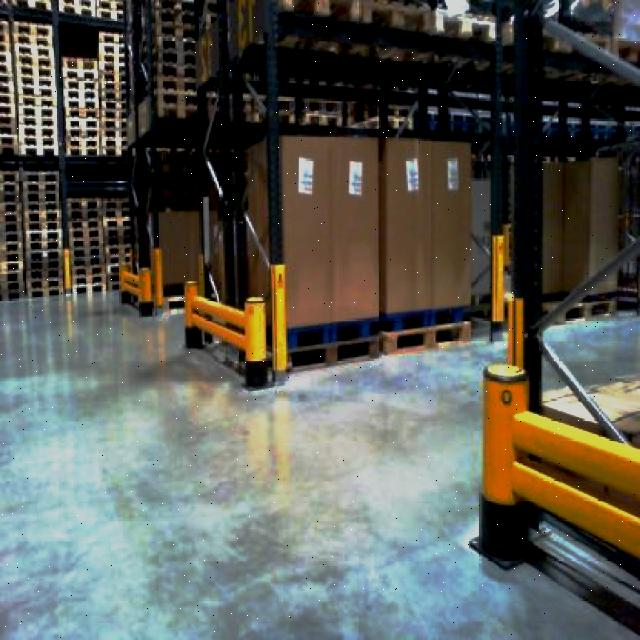ground: (2, 285, 640, 638)
pallet: (2, 0, 640, 386), (474, 0, 640, 638), (183, 129, 475, 385), (2, 0, 211, 305), (245, 131, 383, 371), (511, 406, 640, 638), (382, 134, 475, 354), (183, 277, 275, 386)
